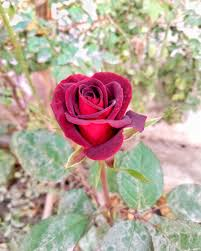rose: (48, 70, 146, 166)
